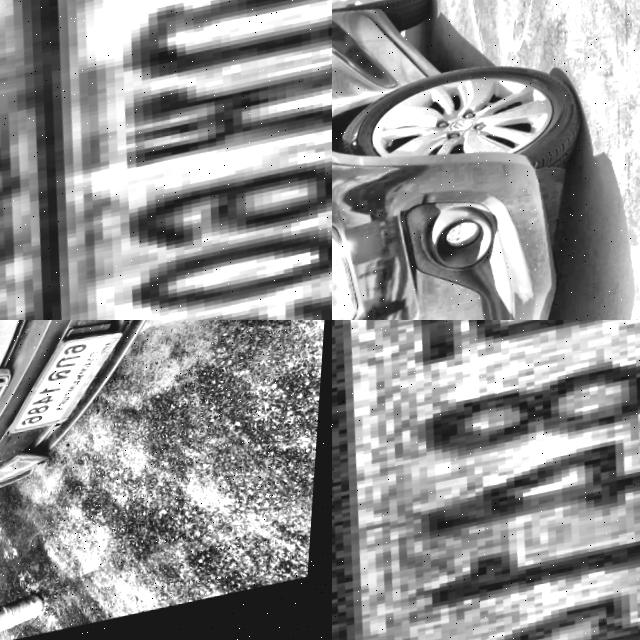license-plate: (11, 0, 332, 320), (332, 320, 640, 640), (2, 333, 138, 445)
